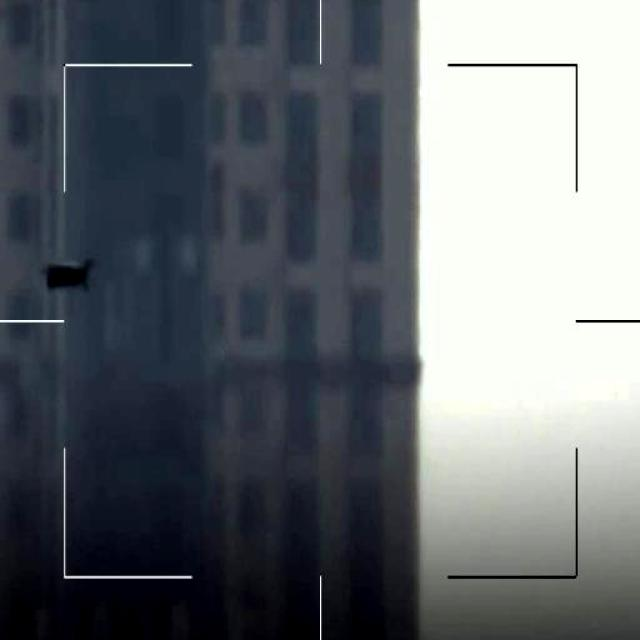bird: (46, 260, 89, 289)
